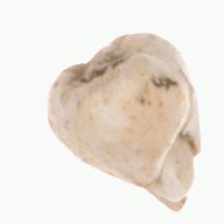L3: (134, 129, 202, 213)
L4: (47, 32, 201, 213)
